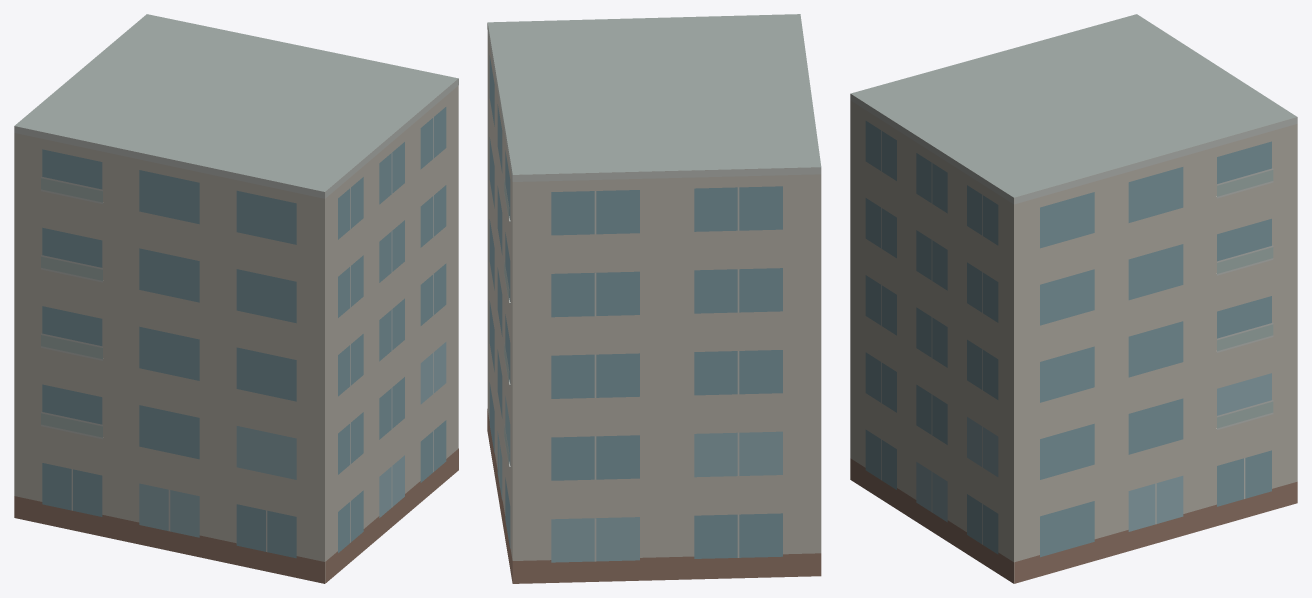
Rendered from survey-upis-32881692.glb.
3 views of the same model, side by side, from view 1: azimuth 30°, elevation 25°; view 2: azimuth 150°, elevation 25°; view 3: azimuth 270°, elevation 25° (orthographic). The views are drawn at different scales.
Visible parts, largest first — view 1: survey-upis-32881692.tmp; view 2: survey-upis-32881692.tmp; view 3: survey-upis-32881692.tmp.
Part boxes in pixels (x1,y1,x2,y2): survey-upis-32881692.tmp: [14, 14, 458, 583]; survey-upis-32881692.tmp: [487, 14, 821, 583]; survey-upis-32881692.tmp: [850, 14, 1297, 583].
Size of the model in its own units: 14.3 by 14 by 14.71.
